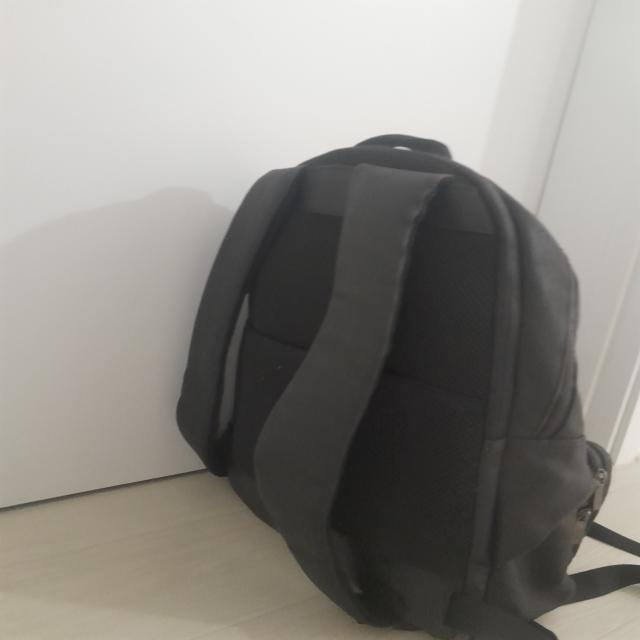backpack: (178, 133, 640, 640)
